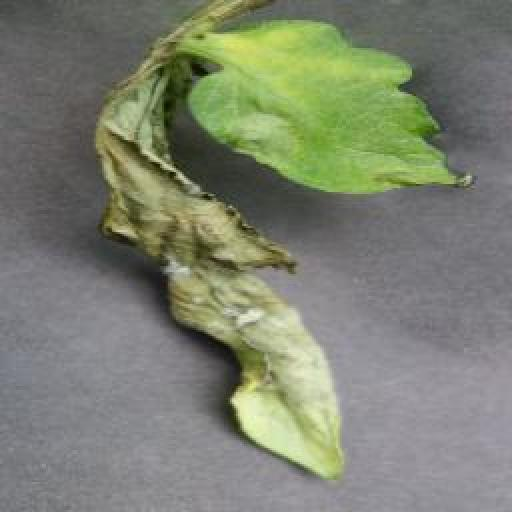Late Blight: (92, 52, 348, 479), (185, 18, 480, 198)
